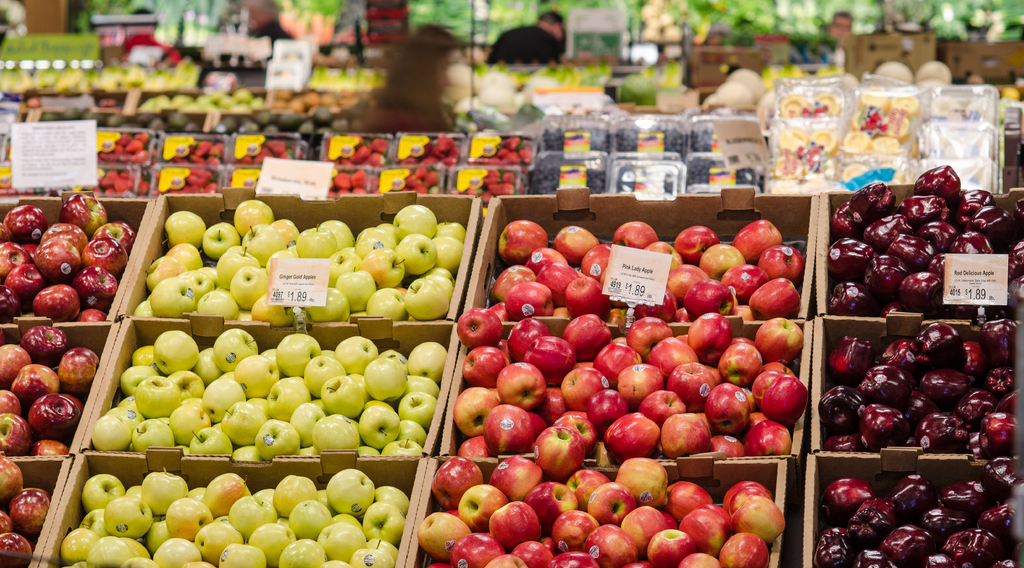Apple: (416, 215, 814, 567), (813, 162, 1023, 567), (0, 189, 131, 567), (85, 323, 441, 458), (136, 196, 463, 325), (55, 467, 410, 567), (724, 486, 789, 547)
